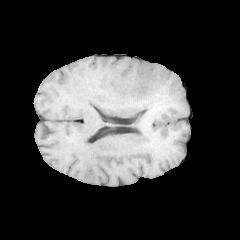glioma: (74, 61, 177, 142)
